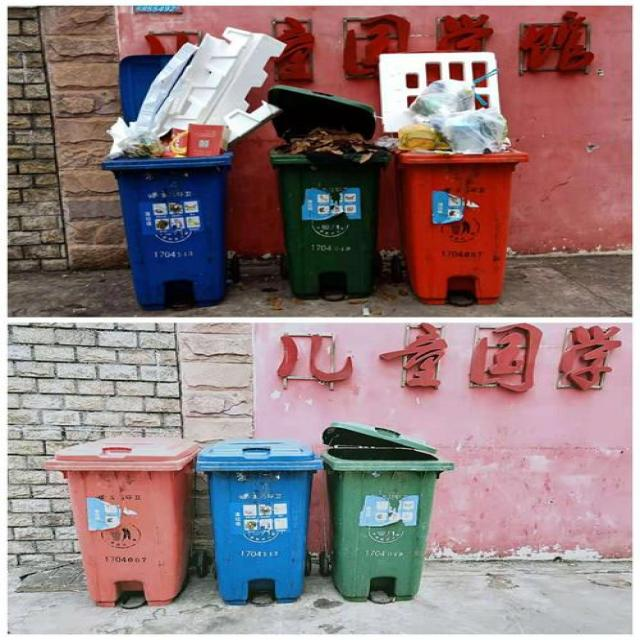garbage_bin: (47, 438, 196, 606), (324, 421, 452, 601), (196, 440, 319, 604)
overflow: (99, 26, 284, 308), (379, 51, 527, 306), (264, 86, 384, 298)
